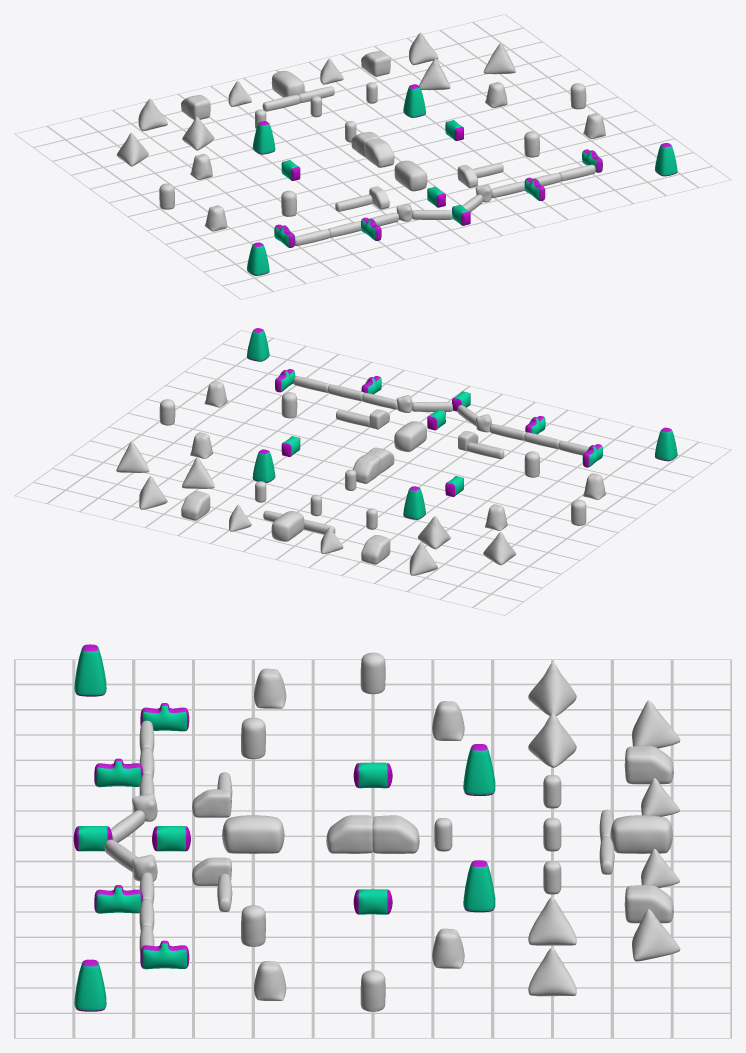
Rendered from Winter_Updated.fbx.
3 views of the same model, one above another, from view 1: azimuth 30°, elevation 25°; view 2: azimuth 150°, elevation 25°; view 3: azimuth 270°, elevation 25° (orthographic). The views are drawn at different scales.
Visible parts, largest first — view 1: Bus_L.002; view 2: Bus_L.002; view 3: Bus_L.002.
Part boxes in pixels (left/top/right/bottom): Bus_L.002: left=14, top=14, right=731, bottom=299; Bus_L.002: left=14, top=328, right=731, bottom=615; Bus_L.002: left=14, top=644, right=731, bottom=1038.
Size of the model in its own units: 4572 by 254 by 3658.
